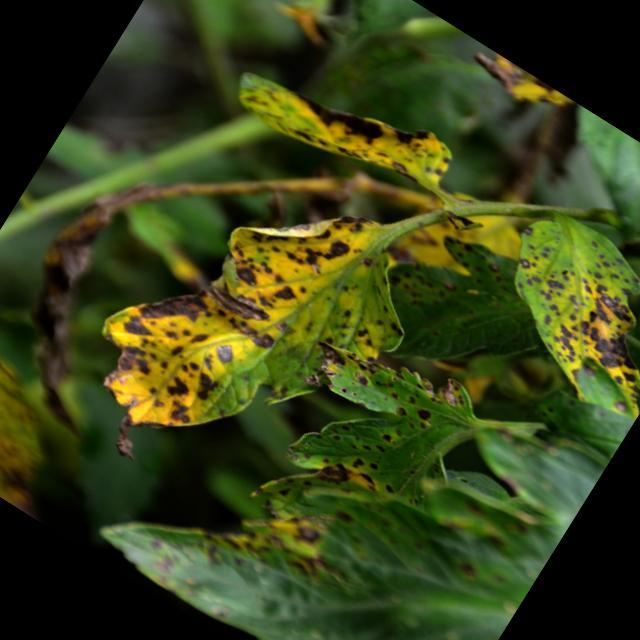Tomato Early blight leaf: (79, 242, 610, 640), (76, 128, 450, 516), (224, 32, 468, 223), (456, 190, 640, 426)
